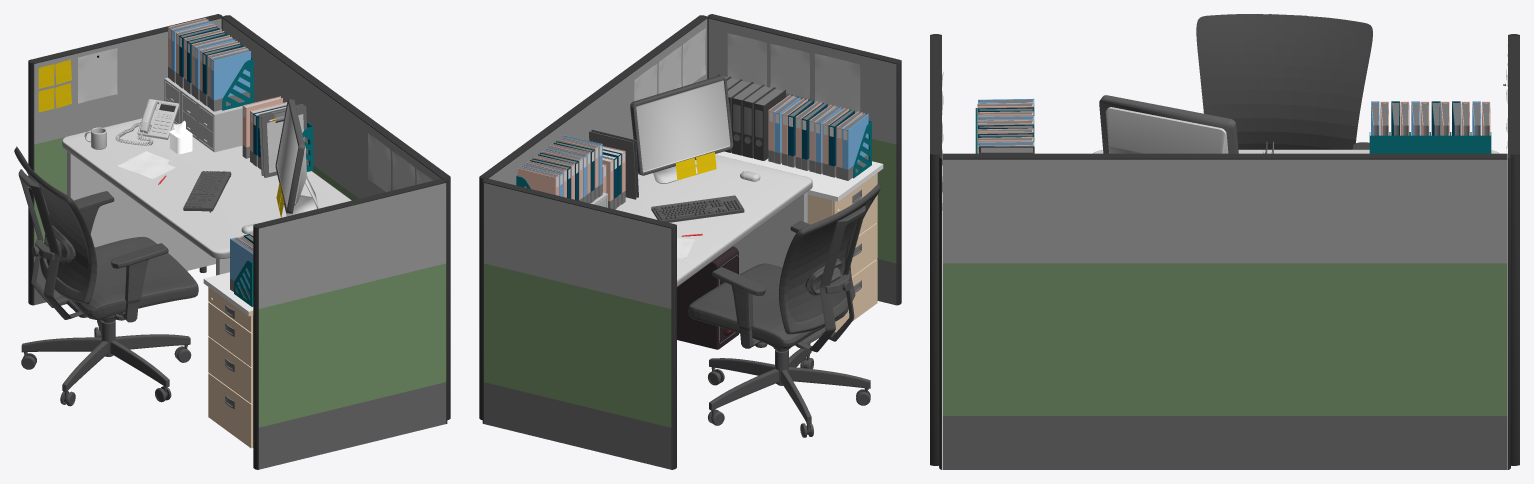
3 views of the same model, side by side, from view 1: azimuth 30°, elevation 25°; view 2: azimuth 150°, elevation 25°; view 3: azimuth 270°, elevation 25° (orthographic). The views are drawn at different scales.
Parts seen in each view (by area): view 1: partition1228A4_StaticMeshComponent0.002_MI_Object_78_0, Officechair1228C6_StaticMeshComponent0_MI_Color_M08_0, partition1228A4_StaticMeshComponent0.002_MI_Color_M03_0, deskoffice1228A6_StaticMeshComponent0_MI_Object_62_1_0, partition1228A4_StaticMeshComponent0_MI_Color_M03_0, partition1228A4_StaticMeshComponent0.002_MI_Color_M05_1_0, partition1228A4_StaticMeshComponent0.001_MI_Color_M03_0, drawer1228C6_StaticMeshComponent0_MI_Color_I05_1_0, deskoffice1228A6_StaticMeshComponent0_MI_Color_C06_0, partition1228A4_StaticMeshComponent0.002_MI_Color_M06_1_0, partition1228A4_StaticMeshComponent0_MI_Color_M06_1_0, Officechair1228C6_StaticMeshComponent0_MI_plasticGrey_0 (+29 smaller); view 2: partition1228A4_StaticMeshComponent0.001_MI_Object_78_0, Officechair1228C6_StaticMeshComponent0_MI_Color_M08_0, partition1228A4_StaticMeshComponent0.001_MI_Color_M03_0, deskoffice1228A6_StaticMeshComponent0_MI_Object_62_1_0, partition1228A4_StaticMeshComponent0.001_MI_Color_M05_1_0, monitor1228A6_StaticMeshComponent0_MI_Object_67_0, partition1228A4_StaticMeshComponent0.002_MI_Color_M03_0, partition1228A4_StaticMeshComponent0_MI_Color_M03_0, drawer1228C6_StaticMeshComponent0_MI_Color_I05_1_0, Officechair1228C6_StaticMeshComponent0_MI_plasticGrey_0, partition1228A4_StaticMeshComponent0_MI_Color_M06_1_0, partition1228A4_StaticMeshComponent0.001_MI_Color_M06_1_0 (+30 smaller); view 3: partition1228A4_StaticMeshComponent0_MI_Object_78_0, partition1228A4_StaticMeshComponent0_MI_Color_M03_0, partition1228A4_StaticMeshComponent0_MI_Color_M05_1_0, Officechair1228C6_StaticMeshComponent0_MI_plasticGrey_0, partition1228A4_StaticMeshComponent0_MI_Color_M06_1_0, monitor1228A6_StaticMeshComponent0_MI_plasticwhite03_0, partition1228A4_StaticMeshComponent0.002_MI_Color_M06_1_0, partition1228A4_StaticMeshComponent0.001_MI_Color_M06_1_0, documents1228J2_StaticMeshComponent0_MI_Default_2_0, documents1228J2_StaticMeshComponent0_MI_Color_F06_1_0, monitor1228A6_StaticMeshComponent0_MI_Object_74_0, documents1228J4_458_StaticMeshComponent0_MI_Default_2_0 (+4 smaller).
Part boxes in pixels (<box>): partition1228A4_StaticMeshComponent0.002_MI_Object_78_0: <box>258,263,446,427</box>; Officechair1228C6_StaticMeshComponent0_MI_Color_M08_0: <box>14,148,198,406</box>; partition1228A4_StaticMeshComponent0.002_MI_Color_M03_0: <box>258,183,446,308</box>; deskoffice1228A6_StaticMeshComponent0_MI_Object_62_1_0: <box>63,118,350,252</box>; partition1228A4_StaticMeshComponent0_MI_Color_M03_0: <box>222,18,441,198</box>; partition1228A4_StaticMeshComponent0.002_MI_Color_M05_1_0: <box>258,382,446,469</box>; partition1228A4_StaticMeshComponent0.001_MI_Color_M03_0: <box>34,18,221,144</box>; drawer1228C6_StaticMeshComponent0_MI_Color_I05_1_0: <box>208,287,253,448</box>; deskoffice1228A6_StaticMeshComponent0_MI_Color_C06_0: <box>67,151,229,275</box>; partition1228A4_StaticMeshComponent0.002_MI_Color_M06_1_0: <box>253,178,447,469</box>; partition1228A4_StaticMeshComponent0_MI_Color_M06_1_0: <box>222,15,450,420</box>; Officechair1228C6_StaticMeshComponent0_MI_plasticGrey_0: <box>16,146,97,304</box>; partition1228A4_StaticMeshComponent0.001_MI_Object_78_0: <box>484,263,671,427</box>; Officechair1228C6_StaticMeshComponent0_MI_Color_M08_0: <box>688,184,880,437</box>; partition1228A4_StaticMeshComponent0.001_MI_Color_M03_0: <box>484,183,671,308</box>; deskoffice1228A6_StaticMeshComponent0_MI_Object_62_1_0: <box>615,154,811,279</box>; partition1228A4_StaticMeshComponent0.001_MI_Color_M05_1_0: <box>484,382,671,469</box>; monitor1228A6_StaticMeshComponent0_MI_Object_67_0: <box>636,80,730,172</box>; partition1228A4_StaticMeshComponent0.002_MI_Color_M03_0: <box>708,18,896,144</box>; partition1228A4_StaticMeshComponent0_MI_Color_M03_0: <box>489,19,707,185</box>; drawer1228C6_StaticMeshComponent0_MI_Color_I05_1_0: <box>807,173,877,332</box>; Officechair1228C6_StaticMeshComponent0_MI_plasticGrey_0: <box>779,183,878,334</box>; partition1228A4_StaticMeshComponent0_MI_Color_M06_1_0: <box>479,15,707,420</box>; partition1228A4_StaticMeshComponent0.001_MI_Color_M06_1_0: <box>482,178,676,469</box>; partition1228A4_StaticMeshComponent0_MI_Object_78_0: <box>943,263,1507,415</box>; partition1228A4_StaticMeshComponent0_MI_Color_M03_0: <box>943,159,1507,263</box>; partition1228A4_StaticMeshComponent0_MI_Color_M05_1_0: <box>943,416,1507,469</box>; Officechair1228C6_StaticMeshComponent0_MI_plasticGrey_0: <box>1196,14,1372,149</box>; partition1228A4_StaticMeshComponent0_MI_Color_M06_1_0: <box>939,153,1510,469</box>; monitor1228A6_StaticMeshComponent0_MI_plasticwhite03_0: <box>1105,107,1228,153</box>; partition1228A4_StaticMeshComponent0.002_MI_Color_M06_1_0: <box>930,34,941,465</box>; partition1228A4_StaticMeshComponent0.001_MI_Color_M06_1_0: <box>1508,34,1519,465</box>; documents1228J2_StaticMeshComponent0_MI_Default_2_0: <box>1371,102,1489,135</box>; documents1228J2_StaticMeshComponent0_MI_Color_F06_1_0: <box>1369,132,1491,153</box>; monitor1228A6_StaticMeshComponent0_MI_Object_74_0: <box>1099,95,1238,153</box>; documents1228J4_458_StaticMeshComponent0_MI_Default_2_0: <box>978,100,1033,148</box>.
Size of the model in its own units: 1.61 by 1.33 by 2.18.
